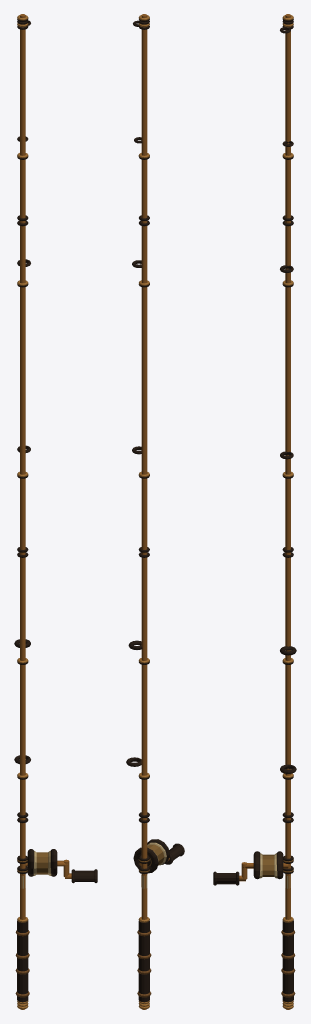
The model's file is AntiqueFishingRod.obj.
3 renders of one model, left to right at view 1: azimuth 90°, elevation 25°; view 2: azimuth 150°, elevation 25°; view 3: azimuth 270°, elevation 25°, orthographic.
Visible parts, largest first — view 1: Bamboo, DarkWrap, BambooDetail, Brass; view 2: Bamboo, DarkWrap, BambooDetail, CorkGrip, IvoryReel, Brass; view 3: Bamboo, DarkWrap, BambooDetail, Brass.
Part boxes in pixels (bbox=[...]): Bamboo: bbox=[20, 14, 71, 1009]; DarkWrap: bbox=[14, 18, 97, 1002]; BambooDetail: bbox=[17, 15, 28, 1009]; Brass: bbox=[36, 852, 48, 874]; Bamboo: bbox=[139, 14, 169, 1009]; DarkWrap: bbox=[126, 19, 184, 1002]; BambooDetail: bbox=[138, 15, 149, 1009]; CorkGrip: bbox=[137, 930, 151, 997]; IvoryReel: bbox=[141, 842, 166, 888]; Brass: bbox=[147, 844, 164, 866]; Bamboo: bbox=[239, 14, 290, 1009]; DarkWrap: bbox=[213, 18, 296, 1002]; BambooDetail: bbox=[282, 15, 293, 1009]; Brass: bbox=[262, 854, 274, 876].
Bounding box in the file's own units: 0.0621 × 2.2 × 0.1674.
